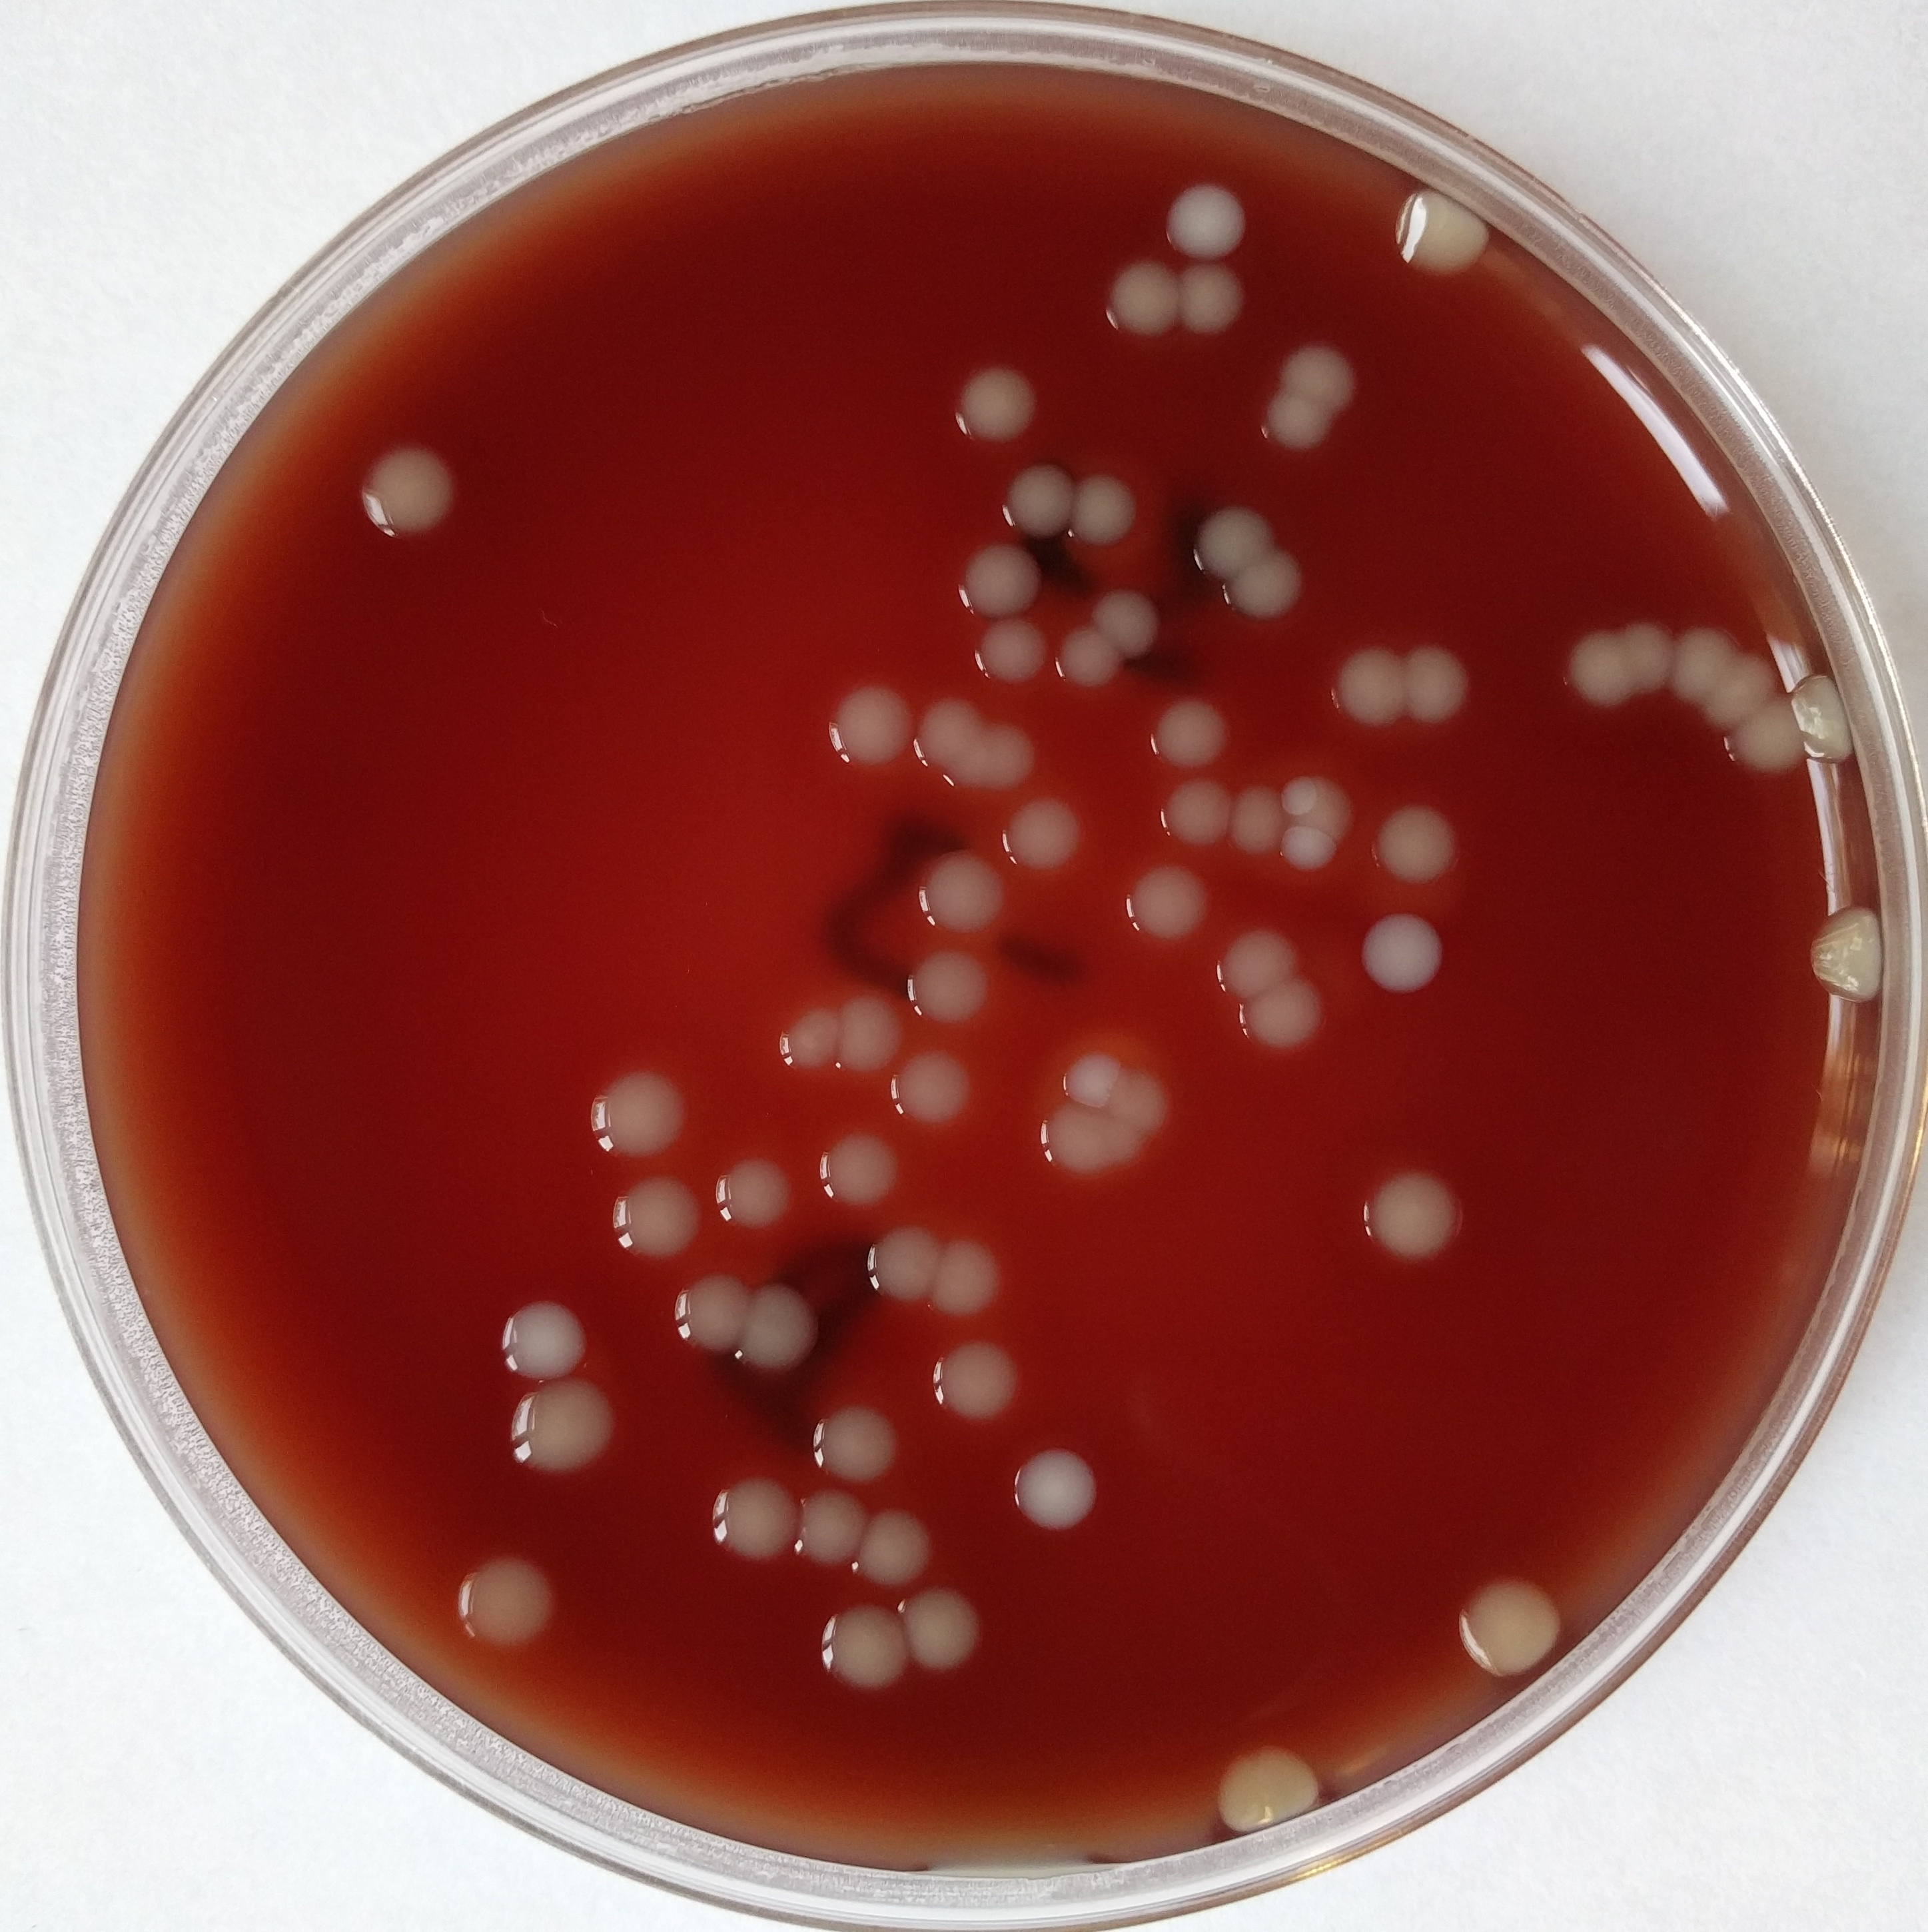sp03: (1441, 1563, 1571, 1690), (344, 436, 480, 551), (576, 1056, 697, 1176), (1201, 1731, 1328, 1837), (902, 828, 1020, 941), (1359, 1158, 1472, 1272), (805, 1598, 918, 1702), (724, 1277, 837, 1379), (1384, 177, 1499, 277), (1119, 851, 1222, 959), (990, 779, 1089, 890), (503, 1376, 613, 1475), (938, 355, 1047, 452), (496, 1289, 613, 1379), (1349, 899, 1453, 998), (457, 1547, 556, 1649), (1797, 888, 1884, 1005), (606, 1171, 704, 1272), (953, 595, 1054, 694), (1010, 1441, 1103, 1547), (697, 1471, 802, 1565), (805, 1388, 893, 1498), (826, 671, 915, 781), (923, 1330, 1020, 1429), (1326, 638, 1412, 747), (1165, 171, 1264, 267), (782, 1480, 876, 1581), (660, 1263, 750, 1367), (904, 945, 1005, 1037), (950, 526, 1047, 620), (823, 977, 909, 1081), (918, 1227, 1012, 1321), (888, 1579, 985, 1669), (1208, 915, 1305, 1005), (1379, 796, 1474, 887), (1269, 336, 1377, 415), (1668, 606, 1751, 708), (1141, 687, 1245, 768), (816, 1125, 906, 1219), (999, 454, 1093, 544), (697, 1151, 803, 1229), (1079, 569, 1169, 659), (1688, 645, 1781, 731), (1211, 542, 1307, 627), (853, 1220, 936, 1317), (888, 1038, 978, 1127), (1098, 245, 1183, 339), (1395, 638, 1478, 728), (1783, 657, 1854, 761), (953, 710, 1040, 795), (1231, 977, 1321, 1058), (902, 683, 982, 774), (1181, 500, 1275, 576), (1555, 618, 1630, 712), (1718, 694, 1801, 777), (1171, 263, 1255, 339), (853, 1498, 932, 1577), (1250, 389, 1337, 461), (1070, 463, 1137, 547), (1165, 770, 1236, 849), (1224, 770, 1287, 857), (1280, 766, 1358, 834), (1040, 1102, 1103, 1183), (773, 1010, 844, 1083), (1052, 1033, 1116, 1107), (1628, 615, 1674, 701), (1059, 630, 1126, 685), (1119, 1060, 1183, 1116), (1280, 825, 1340, 883), (1105, 1113, 1149, 1169)
